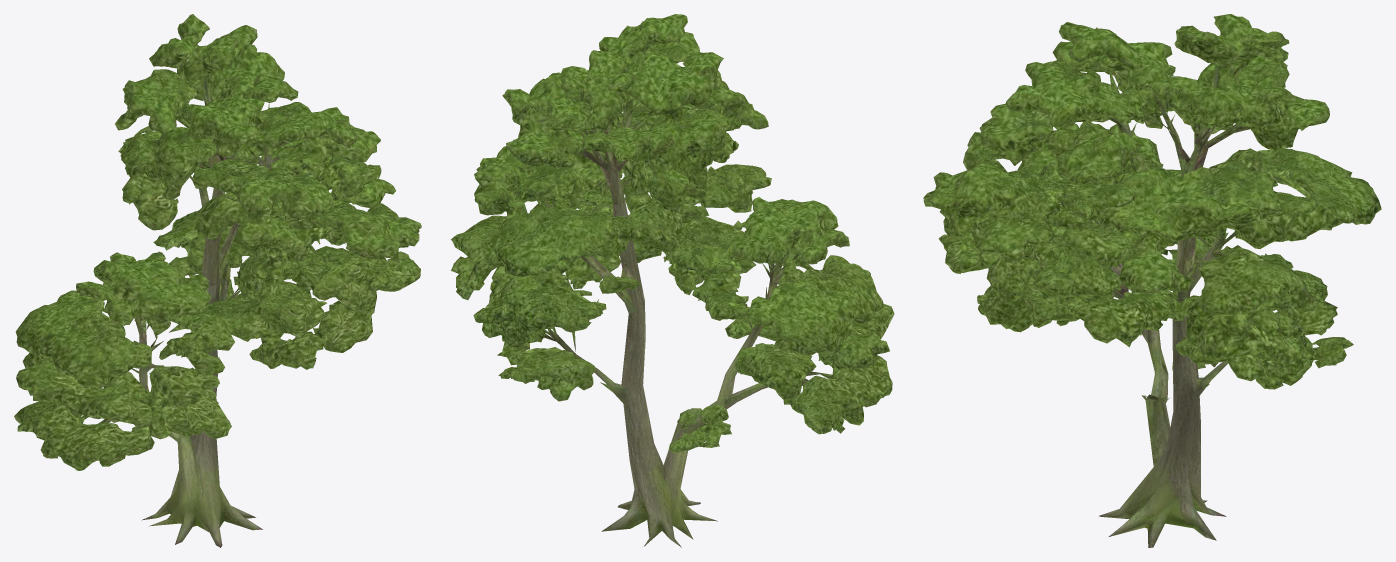
Rendered from forked-forest-elm.glb.
3 views of the same model, side by side, from view 1: azimuth 30°, elevation 25°; view 2: azimuth 150°, elevation 25°; view 3: azimuth 270°, elevation 25° (orthographic). The views are drawn at different scales.
Visible parts, largest first — view 1: Mesh_0; view 2: Mesh_0; view 3: Mesh_0.
Part boxes in pixels (box(x1,y1,x2,y2)): Mesh_0: box(14, 14, 421, 547); Mesh_0: box(451, 14, 894, 547); Mesh_0: box(923, 14, 1381, 547).
Bounding box in the file's own units: 0.5172 × 0.6 × 0.4819.
1 material, 1 textured.
